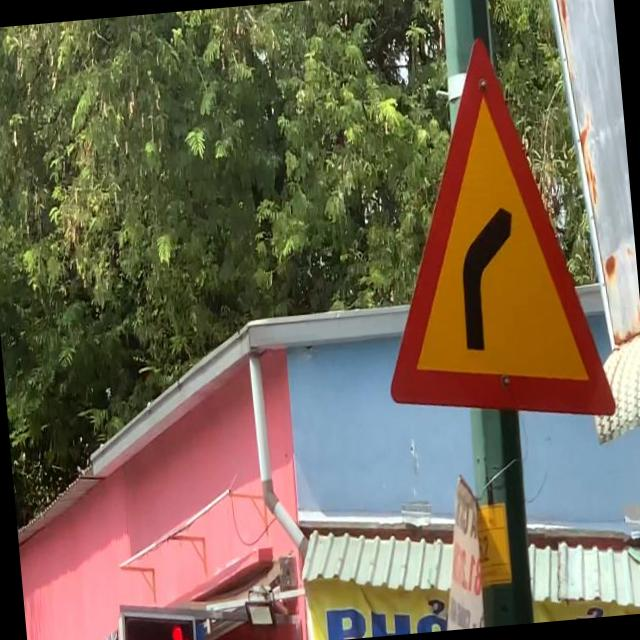W-201b: (360, 28, 618, 436)
